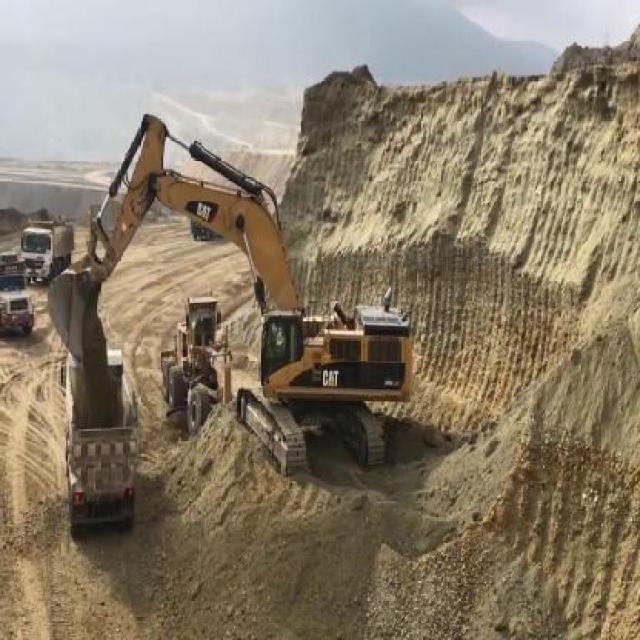dump_truck: (60, 352, 135, 536), (20, 216, 74, 287), (0, 255, 34, 331)
excavator: (43, 105, 415, 481)
